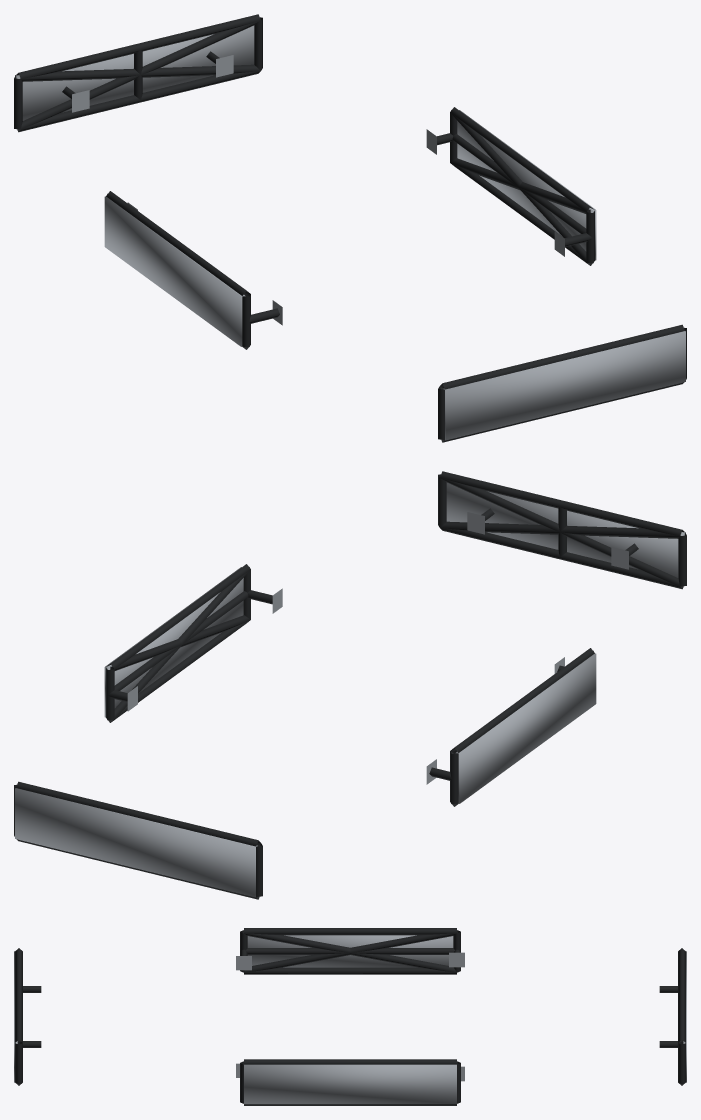
The model's file is keldorf_baluar_protecao.glb.
3 views of the same model, one above another, from view 1: azimuth 30°, elevation 25°; view 2: azimuth 150°, elevation 25°; view 3: azimuth 270°, elevation 25° (orthographic). The views are drawn at different scales.
Parts seen in each view (by area): view 1: Protection_front_Level3_Details, Protection_left_Level3_Details, Protection_rear_Level1_Details, Protection_rear_Level3_Details, Protection_rear_Level2_Details, Protection_right_Level1_Details, Protection_right_Level2_Details, Protection_right_Level3_Details, Protection_front_Level1_Details, Protection_left_Level1_Details; view 2: Protection_rear_Level3_Details, Protection_left_Level3_Details, Protection_front_Level1_Details, Protection_front_Level3_Details, Protection_front_Level2_Details, Protection_right_Level1_Details, Protection_right_Level2_Details, Protection_right_Level3_Details, Protection_rear_Level1_Details, Protection_left_Level1_Details; view 3: Protection_right_Level3_Details, Protection_left_Level1_Details, Protection_left_Level2_Details, Protection_left_Level3_Details, Protection_right_Level1_Details, Protection_rear_Level1_Details, Protection_front_Level1_Details.
Boxes of the visible parts, <box> form: Protection_front_Level3_Details: <box>443,331,685,440</box>; Protection_left_Level3_Details: <box>104,196,245,346</box>; Protection_rear_Level1_Details: <box>14,14,262,132</box>; Protection_rear_Level3_Details: <box>15,25,254,120</box>; Protection_rear_Level2_Details: <box>16,21,260,130</box>; Protection_right_Level1_Details: <box>426,107,594,265</box>; Protection_right_Level2_Details: <box>450,113,593,265</box>; Protection_right_Level3_Details: <box>457,110,596,260</box>; Protection_front_Level1_Details: <box>438,324,686,442</box>; Protection_left_Level1_Details: <box>106,191,282,349</box>; Protection_rear_Level3_Details: <box>15,788,257,897</box>; Protection_left_Level3_Details: <box>455,653,596,803</box>; Protection_front_Level1_Details: <box>438,471,686,589</box>; Protection_front_Level3_Details: <box>446,482,685,577</box>; Protection_front_Level2_Details: <box>440,478,684,587</box>; Protection_right_Level1_Details: <box>106,564,282,722</box>; Protection_right_Level2_Details: <box>107,570,250,722</box>; Protection_right_Level3_Details: <box>104,567,243,717</box>; Protection_rear_Level1_Details: <box>14,781,262,899</box>; Protection_left_Level1_Details: <box>426,648,594,806</box>; Protection_right_Level3_Details: <box>244,1064,456,1104</box>; Protection_left_Level1_Details: <box>236,928,464,974</box>; Protection_left_Level2_Details: <box>243,930,457,972</box>; Protection_left_Level3_Details: <box>247,935,453,967</box>; Protection_right_Level1_Details: <box>236,1059,464,1105</box>; Protection_rear_Level1_Details: <box>659,948,685,1085</box>; Protection_front_Level1_Details: <box>15,948,41,1085</box>.
Bounding box in the file's own units: 2.21 × 0.354 × 4.64.
1 material, 1 textured.
